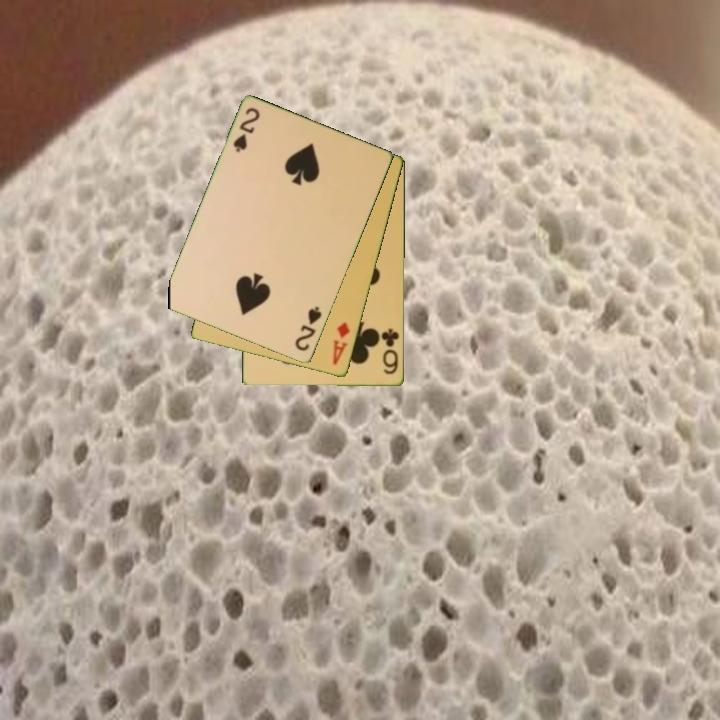2s: (292, 303, 325, 354), (230, 104, 263, 155)
6c: (378, 325, 402, 378)
Ad: (329, 319, 353, 368)
